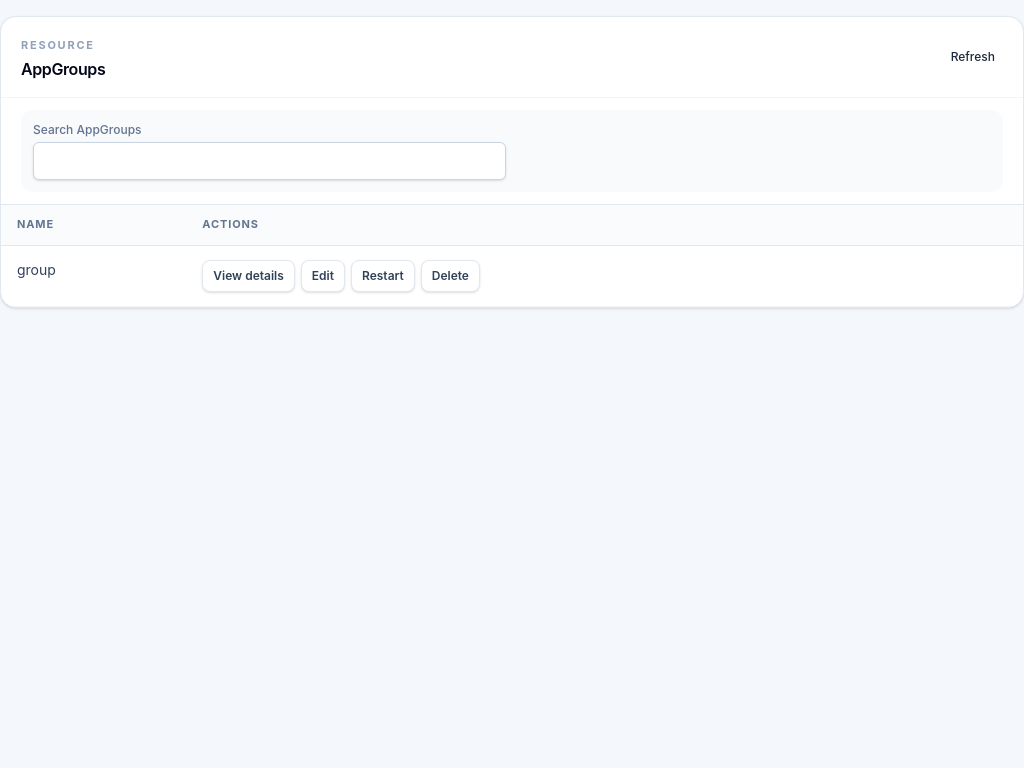
it: resource list usability › shows explicit resource actions without a disclosure menu
Expected: the button "Edit" is shown, [301, 260, 345, 292]
Expected: the button "Restart" is shown, [351, 260, 415, 292]
What coordinates should you click on to do the following:
click the button "View details"
I would click on:
 (249, 276)
Its box is [202, 260, 295, 292].
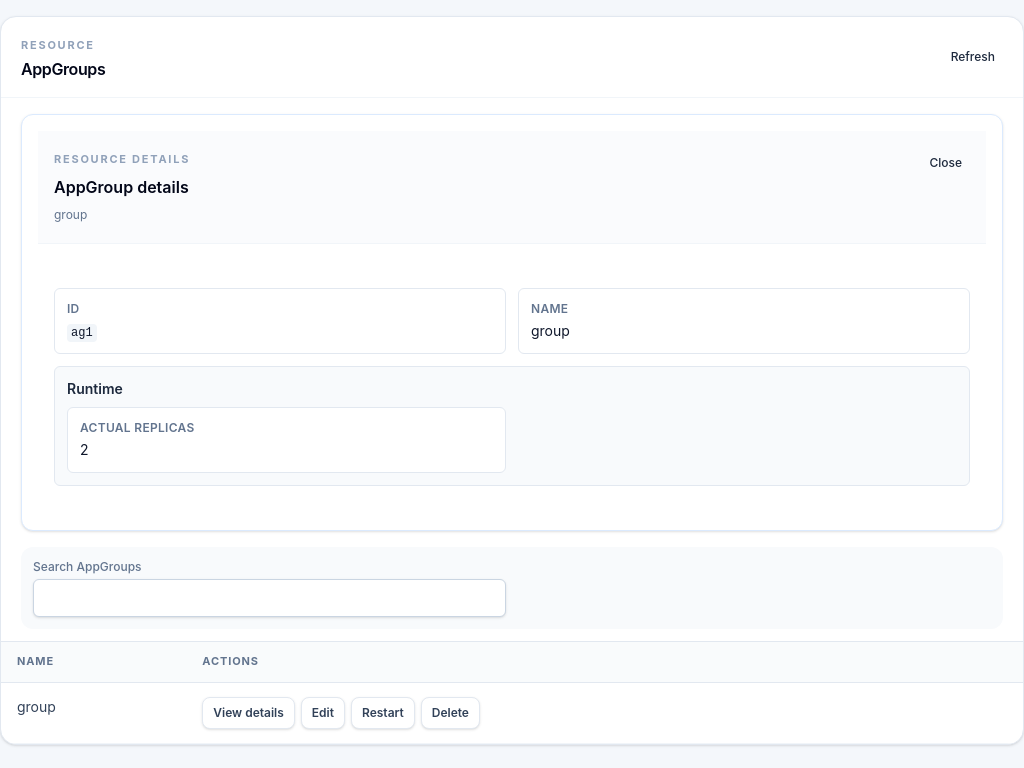
Expected: the heading "AppGroup details" is shown, [54, 177, 189, 197]
Expected: the heading "Runtime" is shown, [67, 380, 123, 397]
